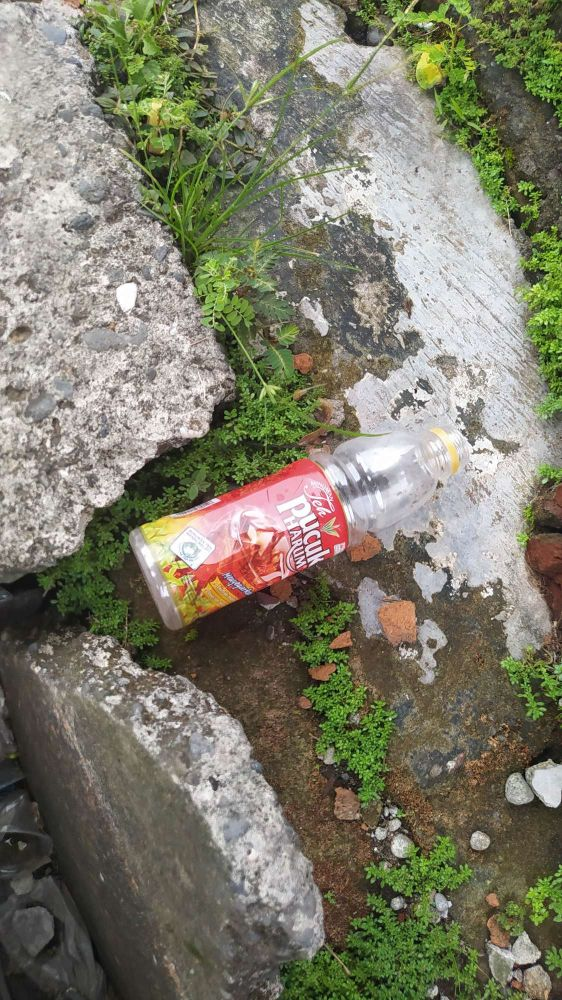botol: (86, 433, 502, 636)
